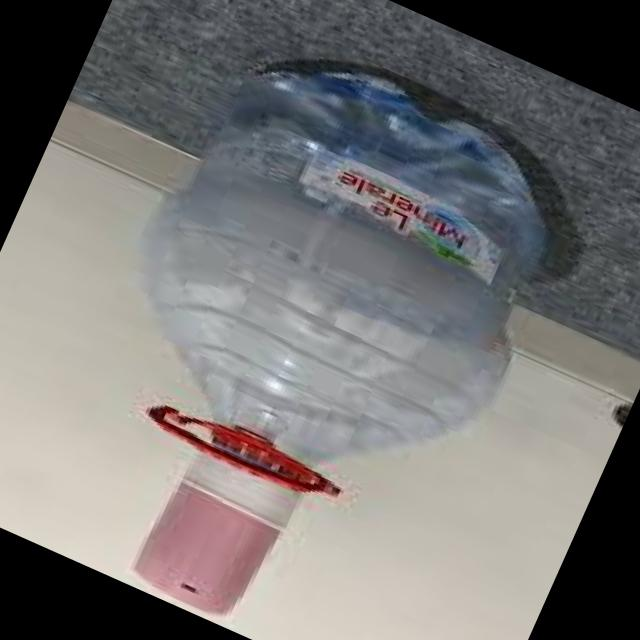Galon: (60, 3, 614, 561)
